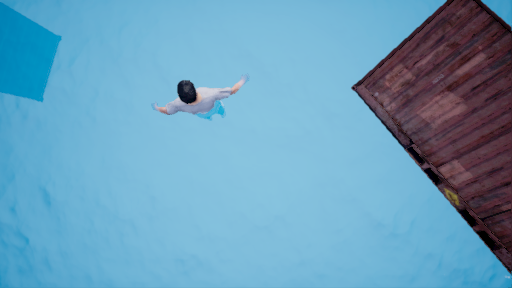person: (150, 75, 268, 131)
